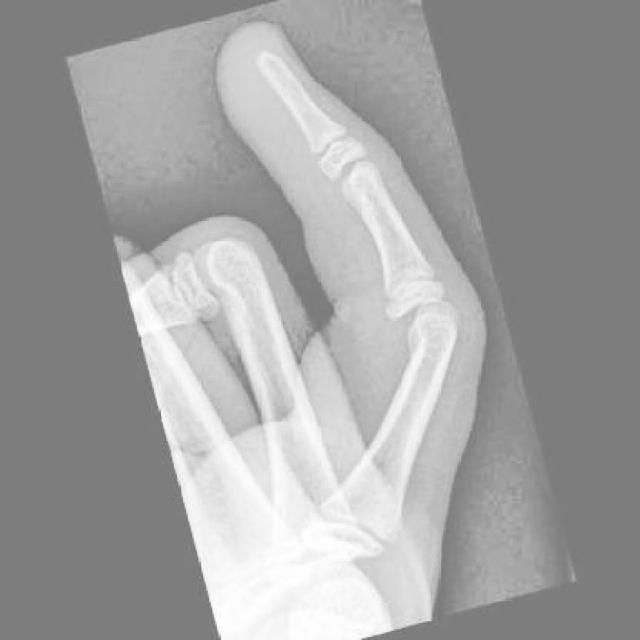Fracture: (305, 120, 365, 173)
